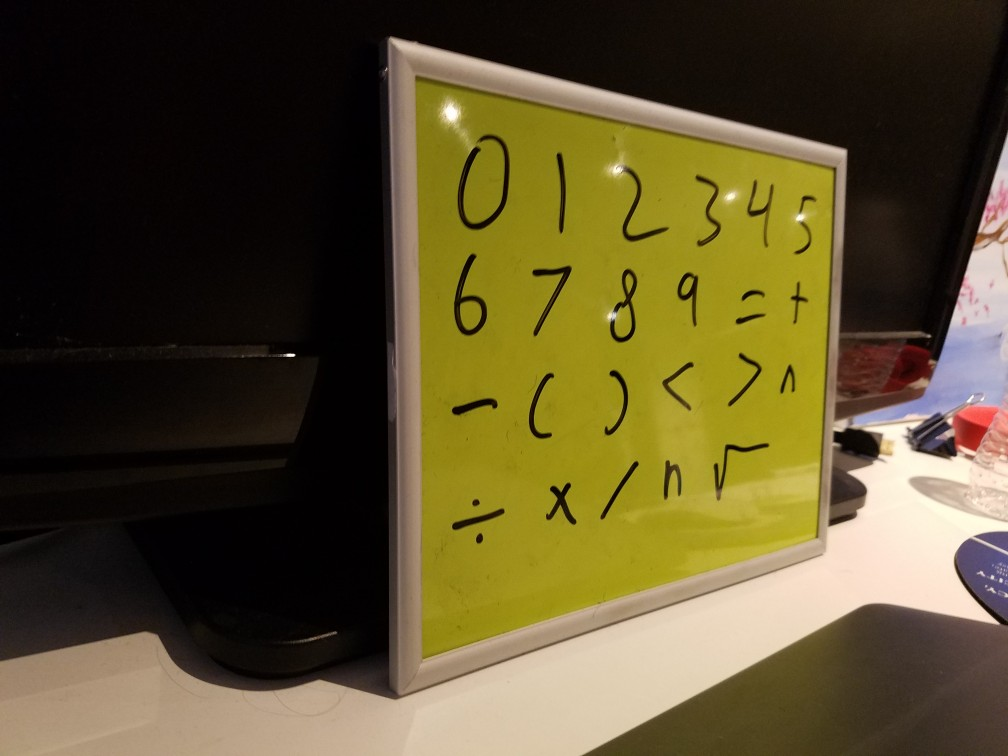(: (516, 365, 565, 452)
): (595, 364, 635, 441)
+: (782, 279, 816, 332)
-: (442, 385, 501, 428)
/: (597, 454, 642, 526)
0: (447, 121, 516, 236)
1: (542, 134, 579, 246)
2: (607, 147, 671, 256)
3: (687, 163, 732, 265)
4: (741, 168, 775, 256)
5: (788, 187, 817, 262)
6: (450, 248, 493, 344)
7: (522, 250, 577, 356)
8: (592, 256, 652, 356)
9: (671, 263, 707, 338)
<: (662, 357, 701, 420)
=: (734, 280, 771, 338)
>: (723, 342, 768, 412)
^: (776, 358, 799, 399)
div: (442, 482, 507, 558)
n: (657, 454, 695, 515)
sqrt: (707, 434, 783, 510)
x: (540, 470, 581, 536)
